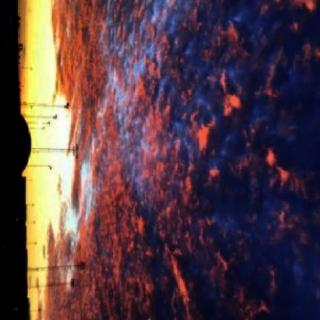Cirrocumulus: (29, 0, 320, 320)
